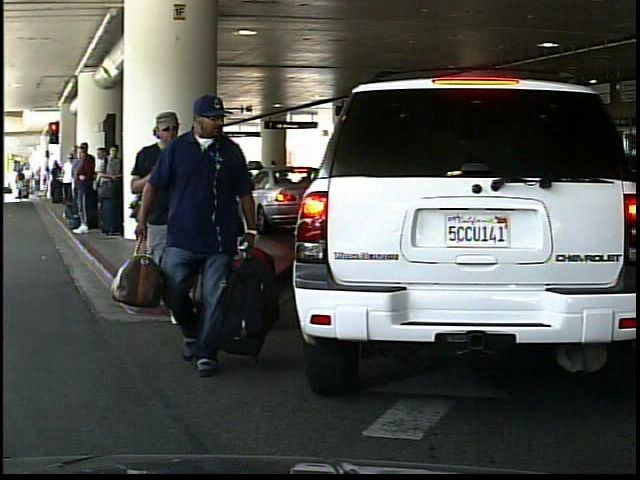person: (142, 88, 287, 382), (133, 102, 208, 314), (173, 133, 225, 259)
